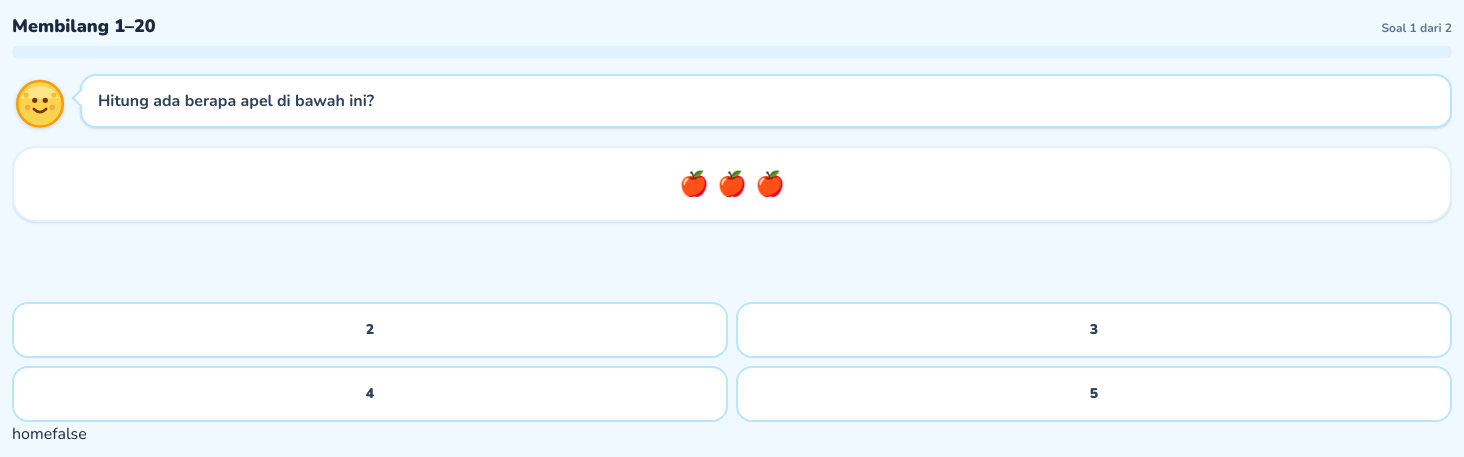
ConceptLearnScreen › salah 3 kali: mengungkap jawaban benar dan auto-advance setelah 1200ms
Later steps or results of the test are not shown.
Click the button "2". click: (370, 330)
box: x1=12 y1=302 x2=728 y2=358
Wait 600 ms
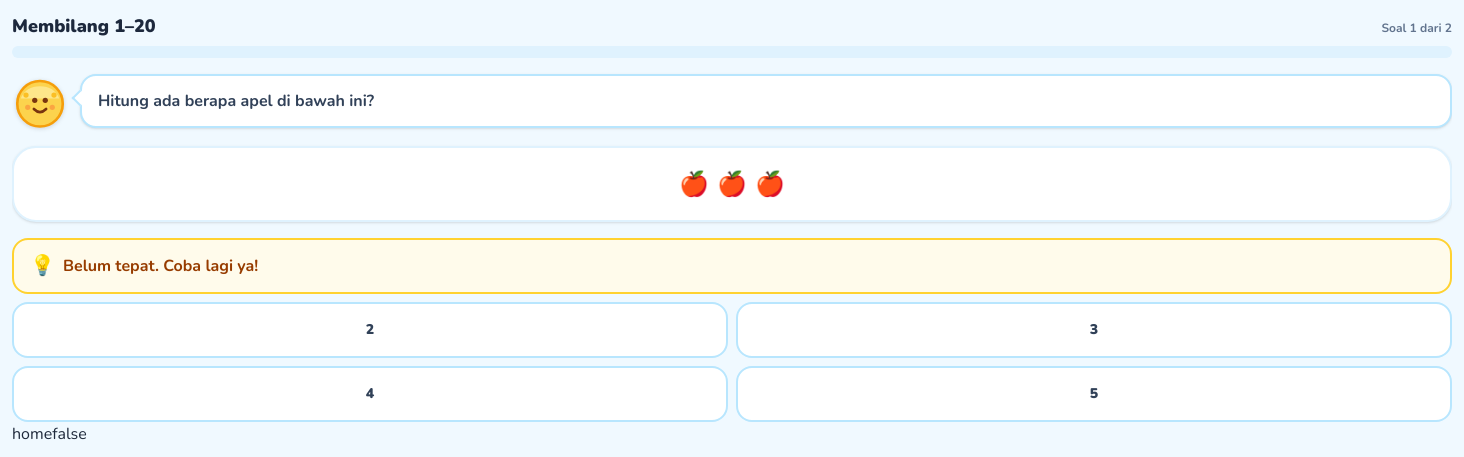
Click the button "4". click: (370, 394)
box: x1=12 y1=366 x2=728 y2=422
Click the button "5". click: (1094, 394)
box: x1=736 y1=366 x2=1452 y2=422
Wait 1200 ms
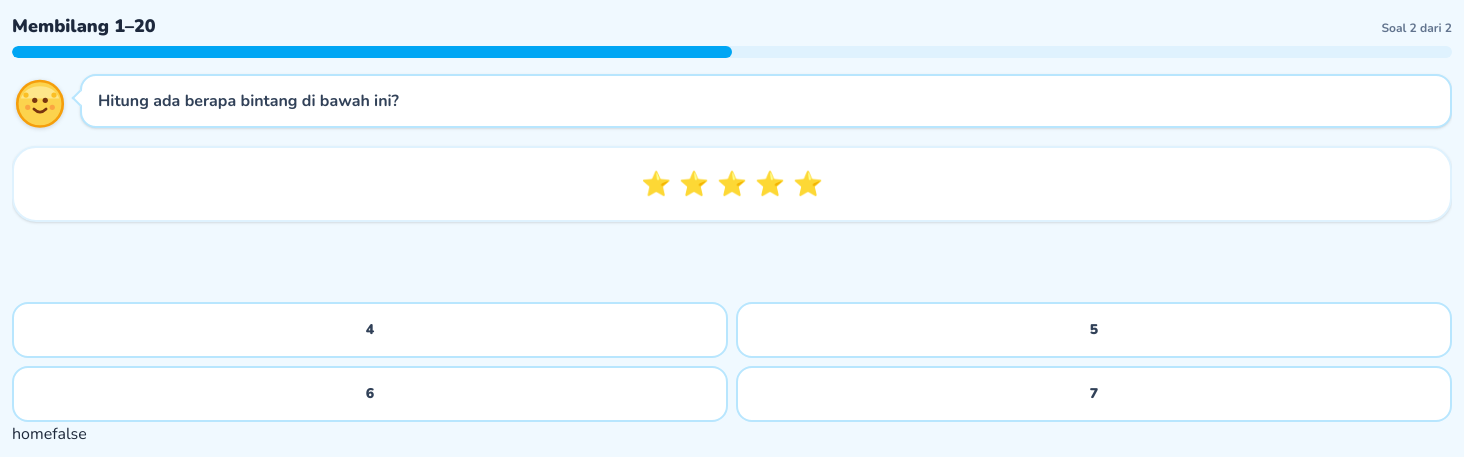
Expected: the text "Soal 2 dari 2" is shown, x1=1381 y1=20 x2=1452 y2=36
